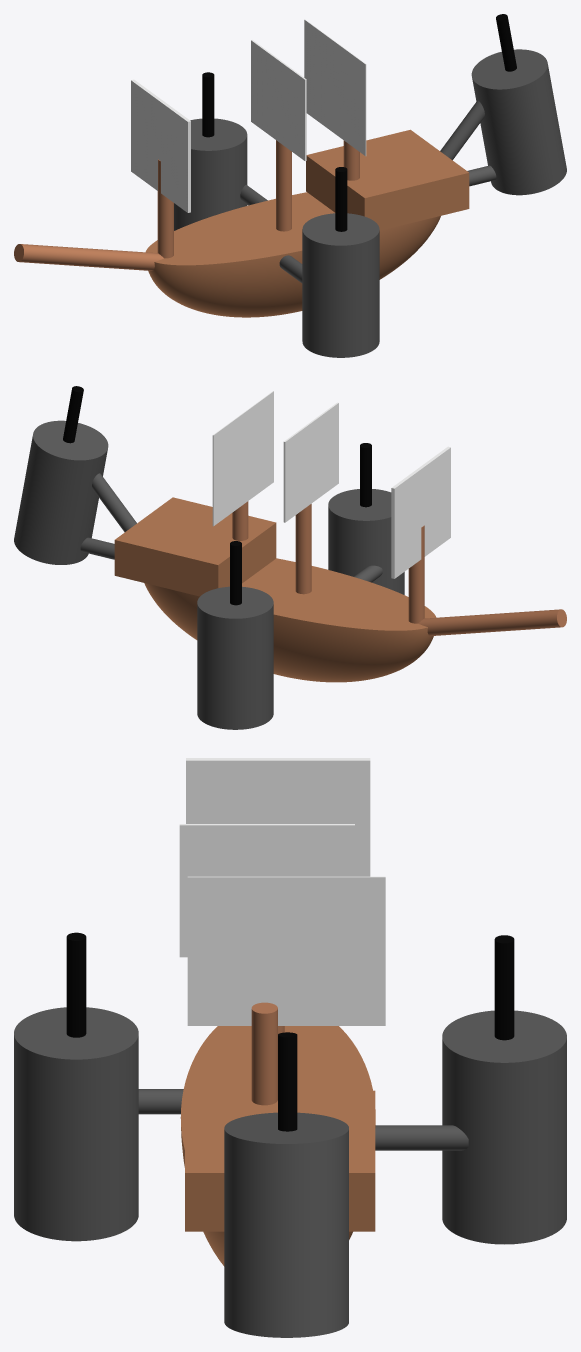
Rendered from airship.fbx.
3 renders of one model, top to bottom at view 1: azimuth 30°, elevation 25°; view 2: azimuth 150°, elevation 25°; view 3: azimuth 270°, elevation 25°, orthographic. The views are drawn at different scales.
Visible parts, largest first — view 1: root (×17); view 2: root (×17); view 3: root (×14).
Part boxes in pixels (box(x1,y1,x2,y2)): root (×17): box(14, 14, 566, 357); root (×17): box(14, 386, 566, 729); root (×14): box(14, 758, 566, 1337).
Size of the model in its own units: 0.4173 by 0.1858 by 0.2255.
10 materials, 5 textured.
